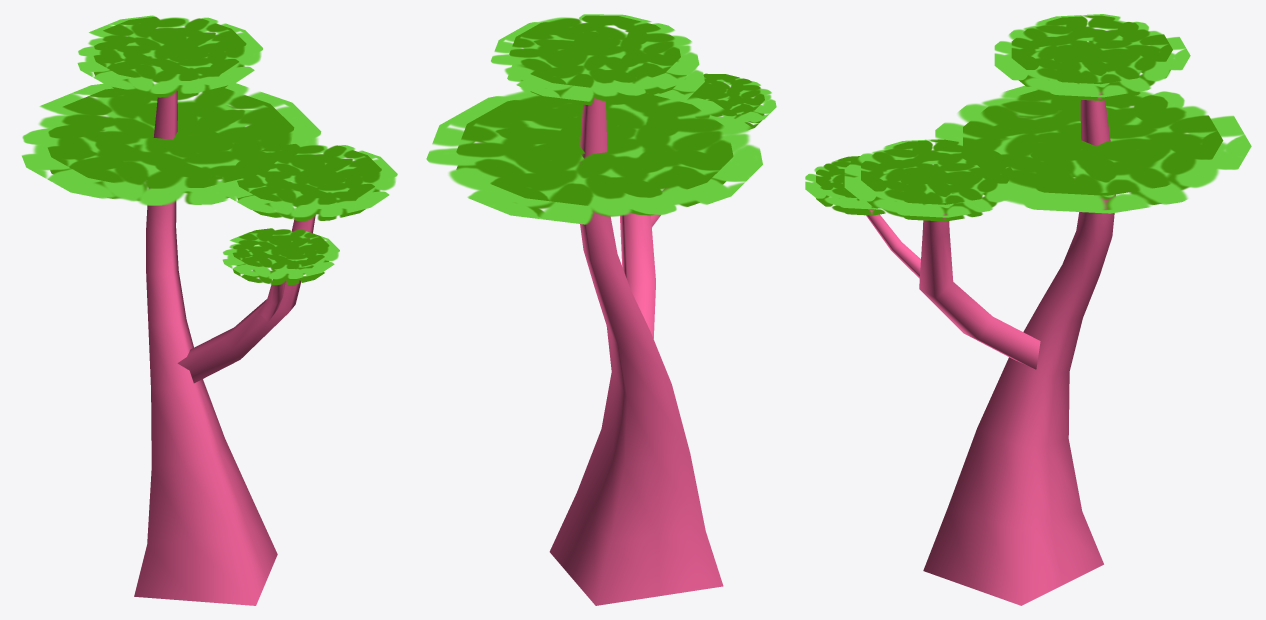
File: Tree.glb
3 renders of one model, left to right at view 1: azimuth 30°, elevation 25°; view 2: azimuth 150°, elevation 25°; view 3: azimuth 270°, elevation 25°, orthographic. The views are drawn at different scales.
Parts seen in each view (by area): view 1: Trunk-col, Circle.002-.001, Circle.002-col, Circle.003-.001, Circle.001-.001, Circle.003-col, Circle.001-col, Circle-.001, Circle-col, Circle.003-.002, Circle.001-.002, Circle-.002; view 2: Trunk-col, Circle.002-.001, Circle.002-col, Circle.003-.001, Circle.003-col, Circle-.001, Circle.001-col, Circle-col, Circle.003-.002, Circle.002-.002; view 3: Trunk-col, Circle.002-.001, Circle.002-col, Circle.003-.001, Circle.001-.001, Circle.003-col, Circle.001-col, Circle-.001, Circle-col, Circle.002-.002, Circle.003-.002, Circle.001-.002.
Part boxes in pixels (box(x1,y1,x2,y2)): Trunk-col: box(134, 90, 315, 605); Circle.002-.001: box(47, 88, 294, 188); Circle.002-col: box(21, 83, 321, 205); Circle.003-.001: box(93, 16, 246, 81); Circle.001-.001: box(237, 144, 381, 205); Circle.003-col: box(77, 15, 262, 93); Circle.001-col: box(222, 143, 397, 217); Circle-.001: box(232, 228, 329, 269); Circle-col: box(222, 231, 339, 279); Circle.003-.002: box(93, 50, 244, 97); Circle.001-.002: box(237, 181, 380, 221); Circle-.002: box(232, 250, 329, 285); Trunk-col: box(549, 97, 723, 605); Circle.002-.001: box(456, 93, 733, 205); Circle.002-col: box(426, 91, 762, 224); Circle.003-.001: box(509, 15, 680, 87); Circle.003-col: box(491, 14, 699, 101); Circle-.001: box(685, 73, 764, 118); Circle.001-col: box(507, 59, 704, 110); Circle-col: box(696, 77, 776, 122); Circle.003-.002: box(518, 64, 680, 105); Circle.002-.002: box(456, 116, 726, 223); Trunk-col: box(866, 92, 1115, 605); Circle.002-.001: box(963, 90, 1223, 195); Circle.002-col: box(935, 85, 1251, 213); Circle.003-.001: box(1011, 15, 1172, 84); Circle.001-.001: box(861, 139, 1013, 204); Circle.003-col: box(994, 14, 1190, 97); Circle.001-col: box(844, 138, 1025, 217); Circle-.001: box(816, 156, 862, 197); Circle-col: box(805, 160, 879, 209); Circle.002-.002: box(1000, 104, 1204, 210); Circle.003-.002: box(1019, 40, 1170, 100); Circle.001-.002: box(867, 164, 997, 221).
Bounding box in the file's own units: 8.53 × 14.75 × 11.52.
Materials: 3 (2 with a texture image).
